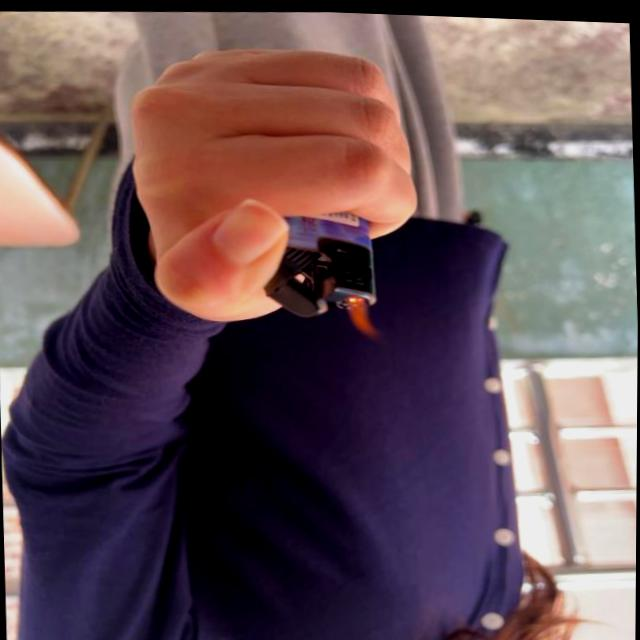helmet: (341, 294, 393, 343)
